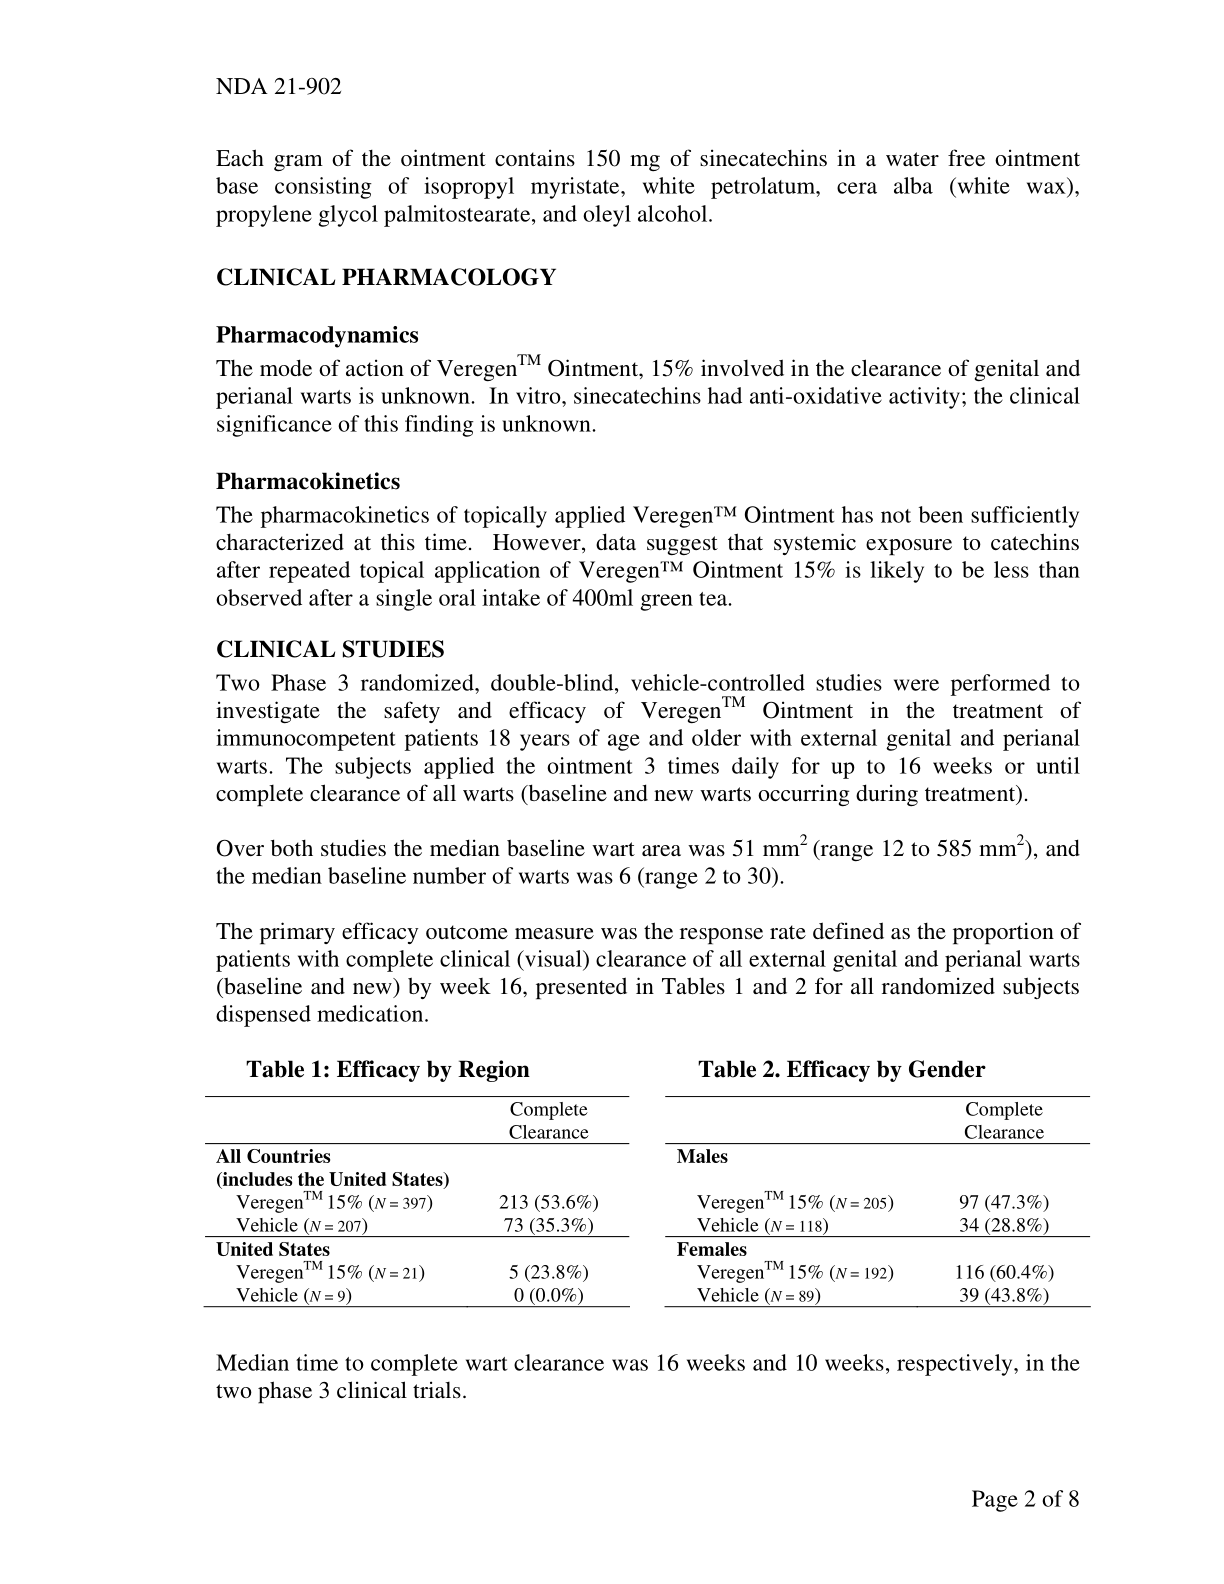partial_lined: (202, 1095, 631, 1309), (663, 1095, 1093, 1309)
